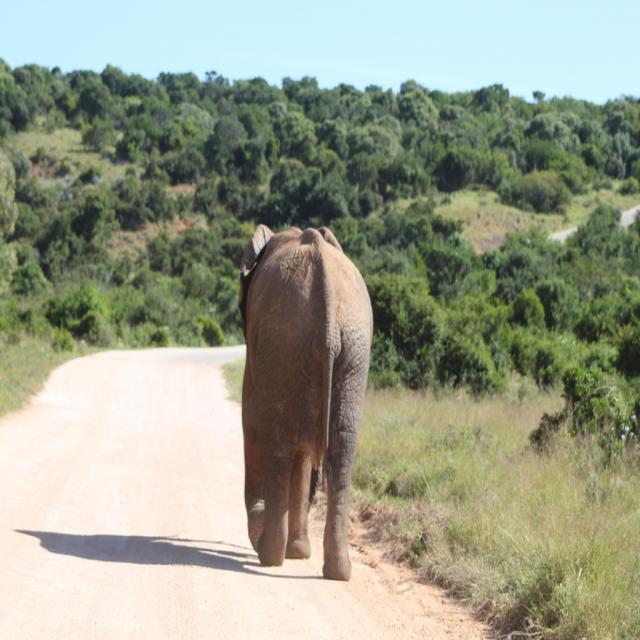elephant: (235, 209, 372, 571)
